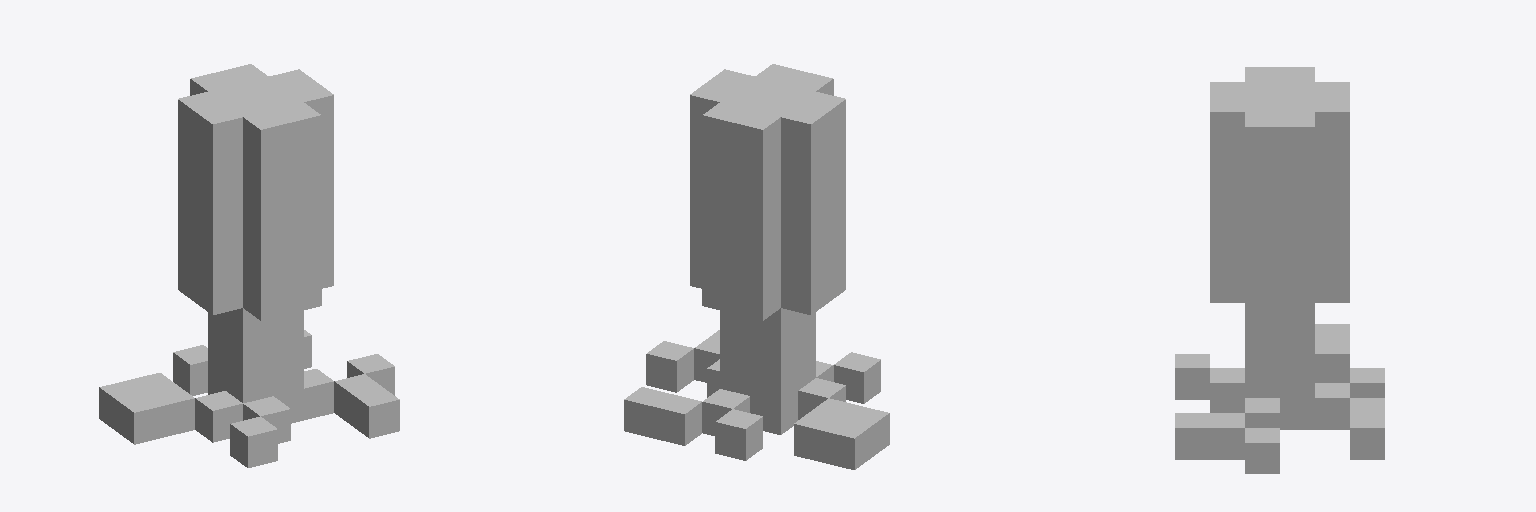
Rendered from Tree_02.obj.
3 views of the same model, side by side, from view 1: azimuth 30°, elevation 25°; view 2: azimuth 150°, elevation 25°; view 3: azimuth 270°, elevation 25° (orthographic).
Parts seen in each view (by area): view 1: object 1; view 2: object 1; view 3: object 1.
Part boxes in pixels (bbox=[...]): object 1: bbox=[99, 64, 399, 467]; object 1: bbox=[624, 64, 889, 469]; object 1: bbox=[1175, 67, 1384, 473].
Size of the model in its own units: 0.8 by 1 by 0.6.